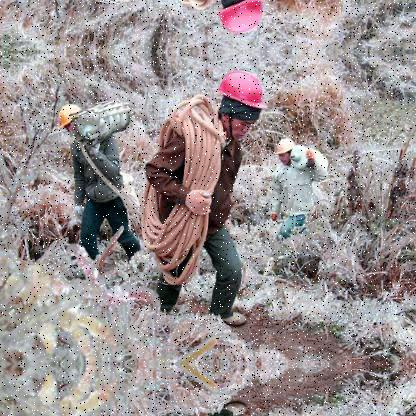Helmet: (214, 73, 268, 137), (219, 0, 268, 36), (58, 103, 89, 139), (276, 137, 298, 169)
